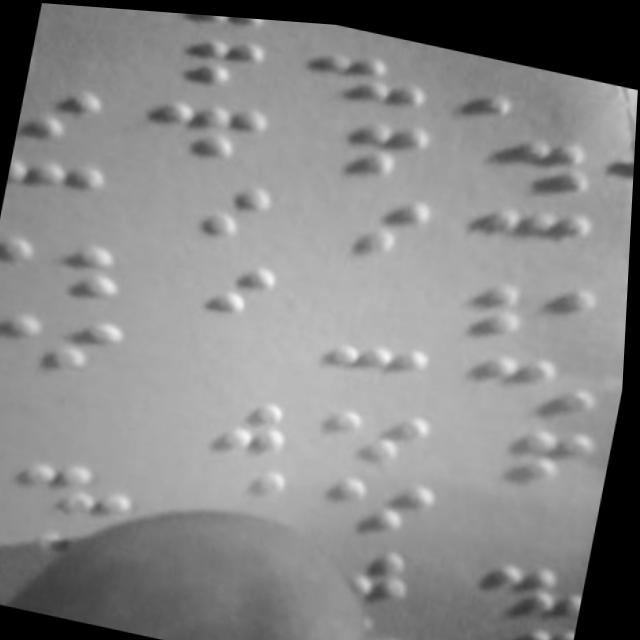braiile: (129, 14, 281, 105), (292, 94, 439, 184), (6, 446, 156, 534), (170, 371, 309, 465), (0, 295, 128, 396), (468, 399, 605, 492), (301, 173, 445, 261), (469, 254, 608, 345), (0, 218, 133, 313), (471, 330, 607, 421), (464, 181, 603, 270), (461, 112, 602, 199), (143, 79, 276, 171), (302, 30, 439, 117), (316, 456, 450, 543), (315, 387, 448, 474), (160, 241, 294, 324), (158, 163, 285, 246), (318, 321, 442, 402), (3, 145, 117, 233), (478, 540, 594, 616), (17, 72, 120, 156), (145, 9, 280, 43)
